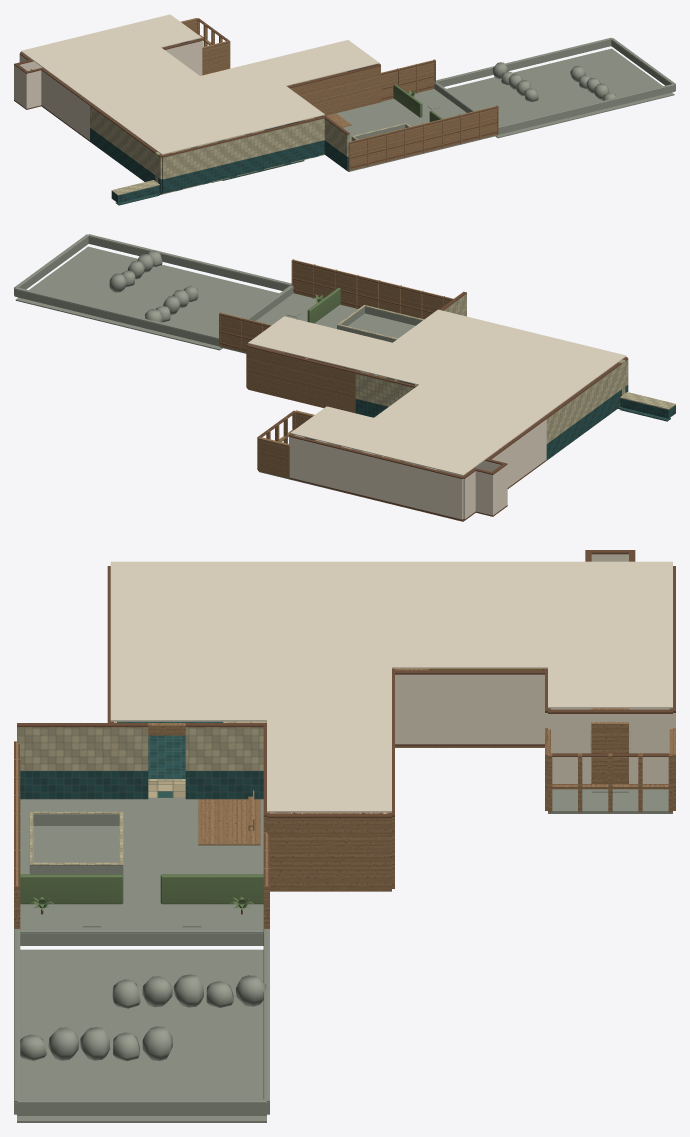
Rendered from sento_environment.glb.
3 views of the same model, one above another, from view 1: azimuth 30°, elevation 25°; view 2: azimuth 150°, elevation 25°; view 3: azimuth 270°, elevation 25° (orthographic). The views are drawn at different scales.
Visible parts, largest first — view 1: environment_ceiling__warm_plaster, environment_static__garden_stone, environment_upper__ceramic_cream, environment_upper__cedar, environment_static__ceramic_teal, environment_static__cedar, environment_upper__warm_plaster, environment_upper__dark_cedar, environment_static__warm_plaster, environment_static__dark_cedar, growth_fixed_upper__cedar, environment_static__sage_foliage (+3 smaller); view 2: environment_ceiling__warm_plaster, environment_static__garden_stone, environment_upper__warm_plaster, environment_upper__cedar, environment_static__cedar, environment_static__warm_plaster, environment_upper__ceramic_cream, environment_upper__dark_cedar, environment_static__ceramic_teal, growth_fixed_upper__cedar, environment_static__dark_cedar, environment_static__sage_foliage (+2 smaller); view 3: environment_ceiling__warm_plaster, environment_static__garden_stone, environment_upper__warm_plaster, environment_upper__ceramic_cream, environment_static__ceramic_teal, environment_static__cedar, environment_upper__cedar, environment_static__sage_foliage, environment_upper__dark_cedar, environment_static__warm_plaster, growth_fixed_static__garden_stone, growth_fixed_static__cedar (+4 smaller).
Boxes of the visible parts, x1,y1,x2,y2 form: environment_ceiling__warm_plaster: (21,14,379,154); environment_static__garden_stone: (327,37,675,171); environment_upper__ceramic_cream: (90,106,349,179); environment_upper__cedar: (31,59,498,156); environment_static__ceramic_teal: (90,121,348,205); environment_static__cedar: (47,45,498,171); environment_upper__warm_plaster: (14,39,202,127); environment_upper__dark_cedar: (14,38,497,157); environment_static__warm_plaster: (14,44,202,140); environment_static__dark_cedar: (14,75,497,168); growth_fixed_upper__cedar: (162,18,230,155); environment_static__sage_foliage: (393,84,442,121); environment_ceiling__warm_plaster: (248,309,626,475); environment_static__garden_stone: (14,234,422,490); environment_upper__warm_plaster: (289,419,546,504); environment_upper__cedar: (219,259,486,470); environment_static__cedar: (219,276,544,521); environment_static__warm_plaster: (289,441,546,519); environment_upper__ceramic_cream: (355,293,628,443); environment_upper__dark_cedar: (220,261,628,478); environment_static__ceramic_teal: (355,377,675,460); growth_fixed_upper__cedar: (257,405,559,462); environment_static__dark_cedar: (220,278,546,520); environment_static__sage_foliage: (296,287,340,323); environment_ceiling__warm_plaster: (110,561,672,812); environment_static__garden_stone: (14,798,269,1122); environment_upper__warm_plaster: (395,554,675,757); environment_upper__ceramic_cream: (17,727,263,770); environment_static__ceramic_teal: (20,721,263,799); environment_static__cedar: (14,668,628,929); environment_upper__cedar: (14,668,544,914); environment_static__sage_foliage: (20,874,263,910); environment_upper__dark_cedar: (14,550,675,888); environment_static__warm_plaster: (395,718,668,783); growth_fixed_static__garden_stone: (548,789,672,813); growth_fixed_static__cedar: (545,780,675,812).
Size of the model in its own units: 39.3 by 3.04 by 21.2.
17 materials, 9 textured.
